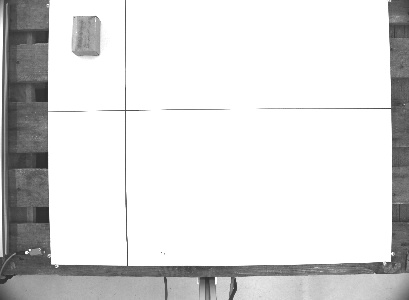b1: (67, 13, 104, 57)
